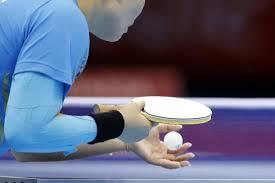ball_pingpong: (164, 130, 184, 152)
